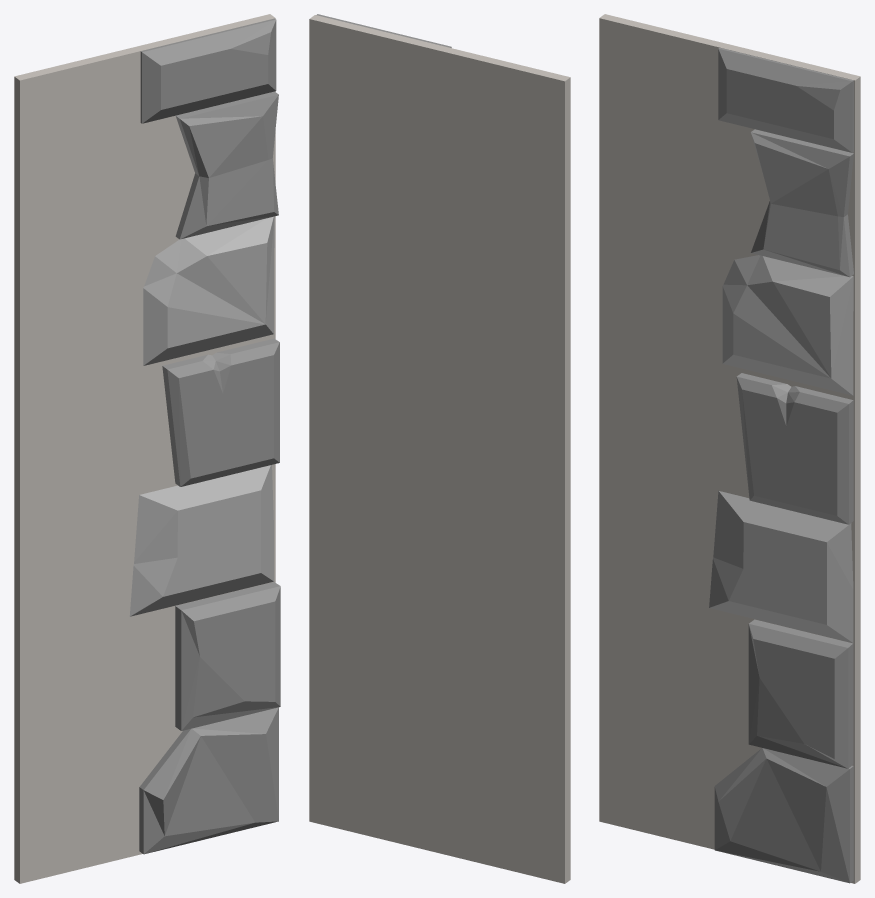
Rendered from WALL_07_1.fbx.
The picture shows the model from 3 angles, left to right: view 1: azimuth 30°, elevation 25°; view 2: azimuth 150°, elevation 25°; view 3: azimuth 330°, elevation 25°; orthographic projection.
Visible parts, largest first — view 1: WALL_07_1; view 2: WALL_07_1; view 3: WALL_07_1.
Part boxes in pixels (x1,y1,x2,y2): WALL_07_1: [14, 14, 280, 883]; WALL_07_1: [309, 14, 570, 883]; WALL_07_1: [599, 14, 860, 883].
Bounding box in the file's own units: 100 × 300 × 12.
